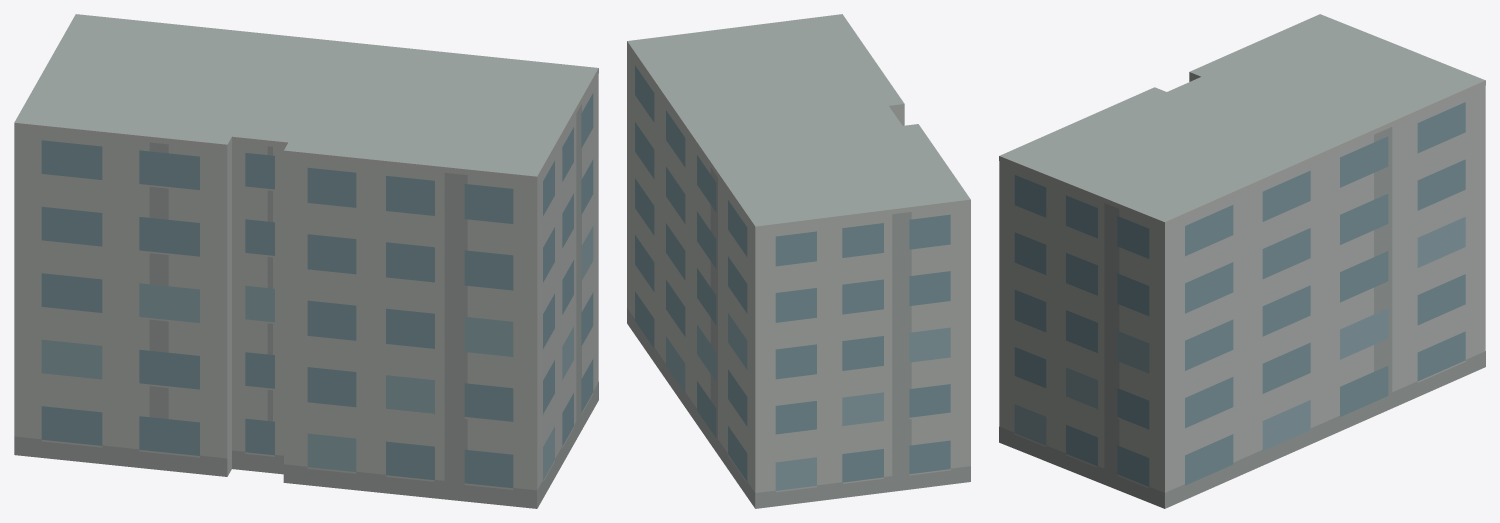
File: survey-upis-32769048.glb
3 renders of one model, left to right at view 1: azimuth 30°, elevation 25°; view 2: azimuth 150°, elevation 25°; view 3: azimuth 270°, elevation 25°, orthographic. The views are drawn at different scales.
Parts seen in each view (by area): view 1: survey-upis-32769048.tmp; view 2: survey-upis-32769048.tmp; view 3: survey-upis-32769048.tmp.
Part boxes in pixels (x1,y1,x2,y2): survey-upis-32769048.tmp: [14, 14, 598, 508]; survey-upis-32769048.tmp: [627, 14, 970, 508]; survey-upis-32769048.tmp: [999, 14, 1485, 508].
Bounding box in the file's own units: 22.05 × 14.15 × 21.77.
